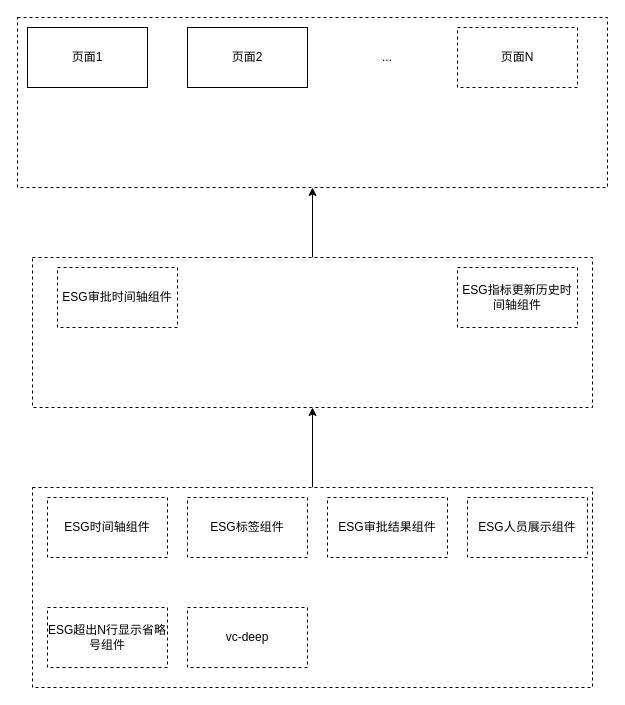
Some shapes in this 625 by 705 pixel diagram are drawn without their labels. The shapes that lost their labels are listed below. From the top down, each one's box as (x1, y1, x2, y2) in pixels, then its label:
(16, 16, 608, 188): Pages
(32, 256, 592, 408): LowCode Components
(32, 486, 592, 688): ProCode Components
